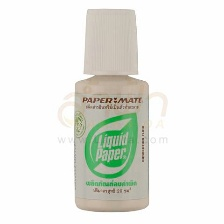correction_fluid: (69, 4, 153, 216)
